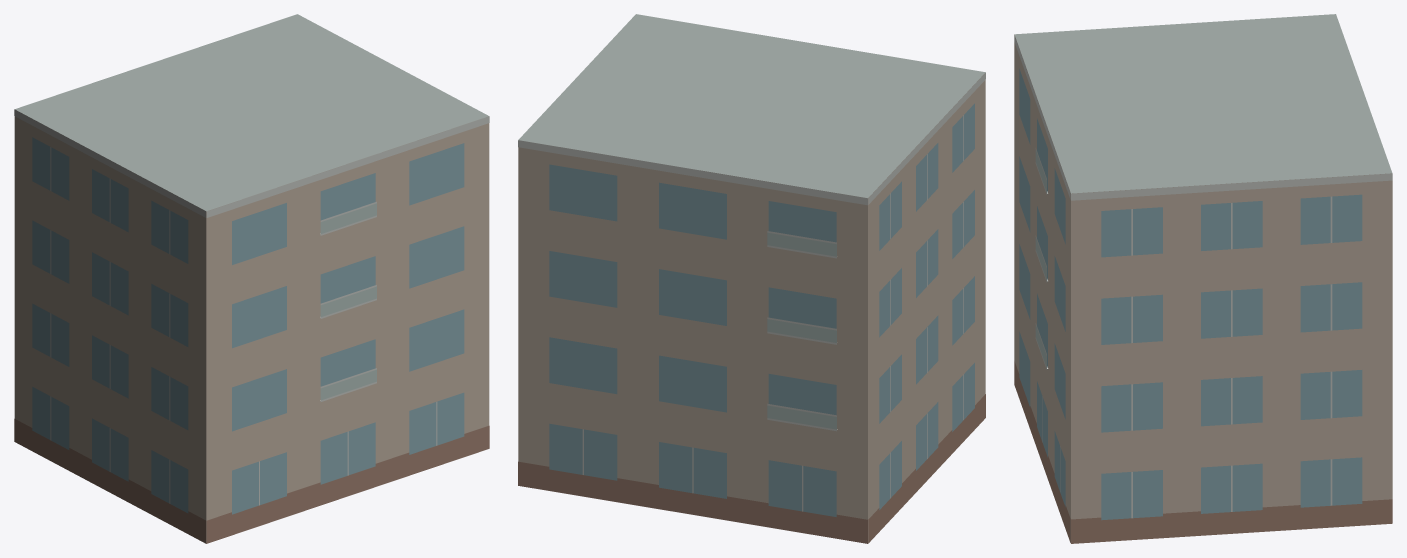
Rendered from survey-upis-32748083.glb.
3 renders of one model, left to right at view 1: azimuth 30°, elevation 25°; view 2: azimuth 150°, elevation 25°; view 3: azimuth 270°, elevation 25°, orthographic. The views are drawn at different scales.
Visible parts, largest first — view 1: survey-upis-32748083.tmp; view 2: survey-upis-32748083.tmp; view 3: survey-upis-32748083.tmp.
Part boxes in pixels (x1=…): survey-upis-32748083.tmp: x1=14, y1=14, x2=489, y2=543; survey-upis-32748083.tmp: x1=518, y1=14, x2=985, y2=543; survey-upis-32748083.tmp: x1=1014, y1=14, x2=1392, y2=543.
Size of the model in its own units: 12.97 by 11.8 by 11.55.
